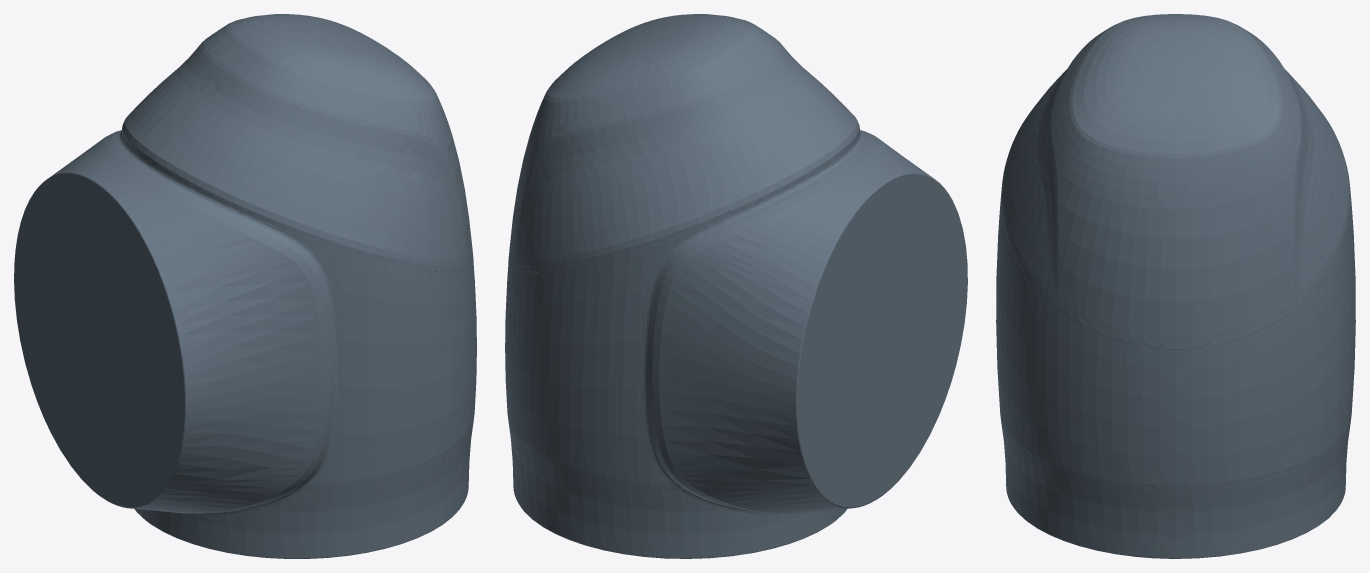
3 renders of one model, left to right at view 1: azimuth 30°, elevation 25°; view 2: azimuth 150°, elevation 25°; view 3: azimuth 270°, elevation 25°, orthographic.
Parts seen in each view (by area): view 1: H2017_2_2; view 2: H2017_2_2; view 3: H2017_2_2.
Boxes of the visible parts, <box> form: H2017_2_2: <box>14,14,476,558</box>; H2017_2_2: <box>505,14,967,558</box>; H2017_2_2: <box>996,14,1355,558</box>.
Size of the model in its own units: 182 by 162 by 225.
